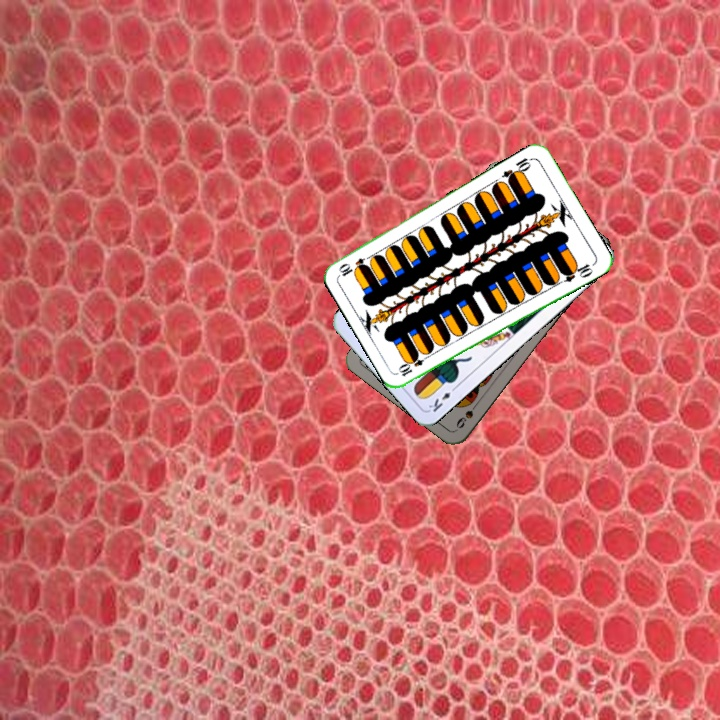E10: (498, 153, 535, 184), (396, 350, 433, 379)
EK: (424, 382, 460, 415)
S9: (452, 397, 482, 431)
